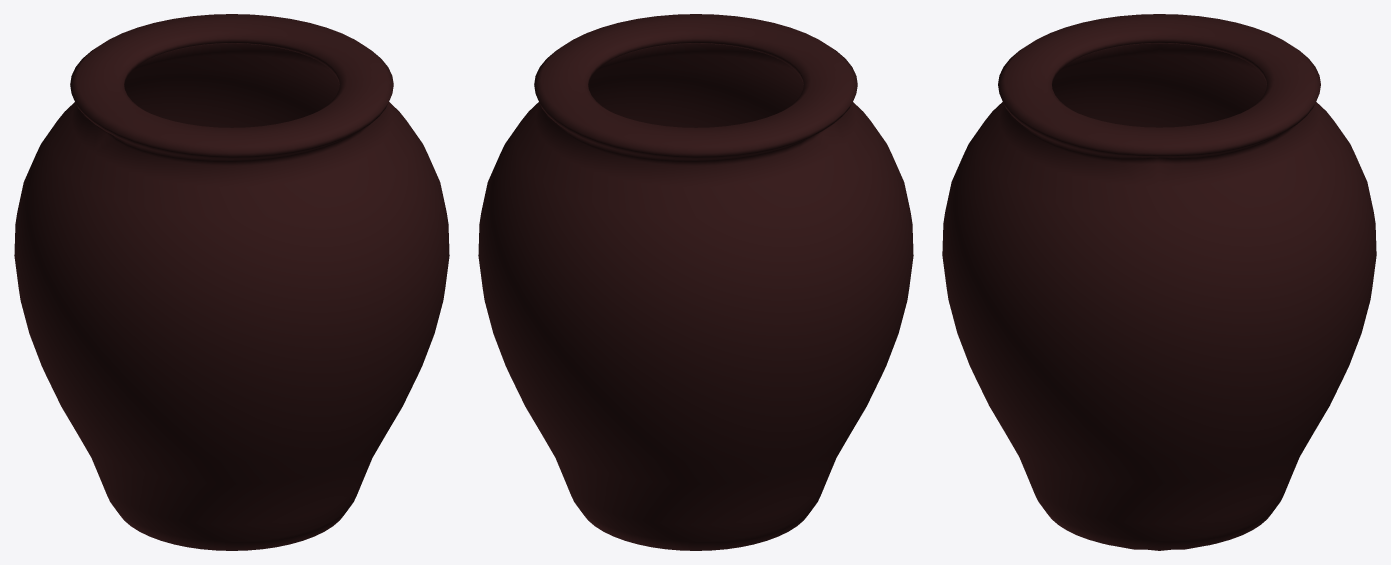
Rendered from arcc.FBX.
3 renders of one model, left to right at view 1: azimuth 30°, elevation 25°; view 2: azimuth 150°, elevation 25°; view 3: azimuth 270°, elevation 25°, orthographic.
Parts seen in each view (by area): view 1: Layer0_003; view 2: Layer0_003; view 3: Layer0_003.
Part boxes in pixels (<box>): Layer0_003: <box>14,14,449,550</box>; Layer0_003: <box>478,14,913,550</box>; Layer0_003: <box>942,14,1376,550</box>.
Size of the model in its own units: 1.26 by 1.39 by 1.26.
